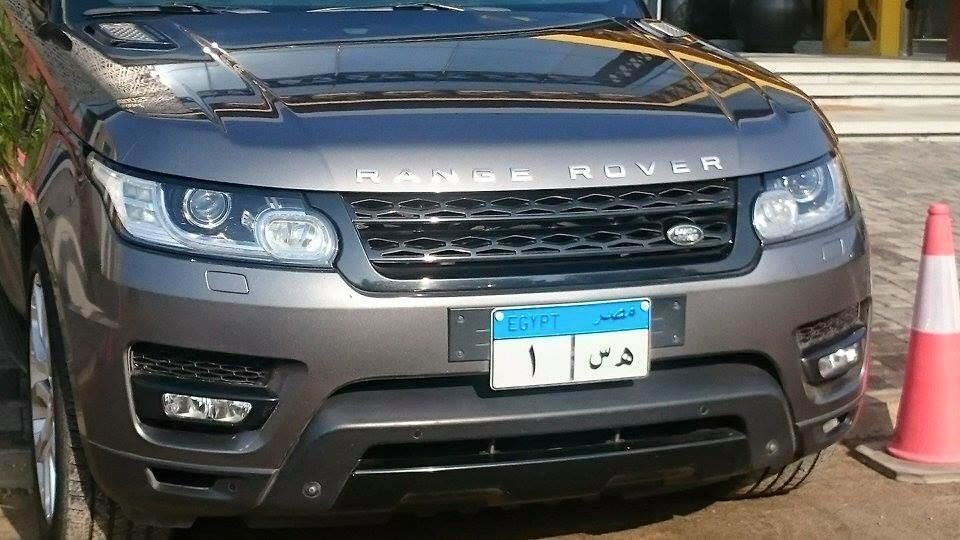1: (526, 342, 539, 380)
Heeh: (613, 344, 636, 372)
License Plate: (487, 295, 654, 394)
Seen: (585, 345, 612, 372)
car: (0, 0, 873, 517)
